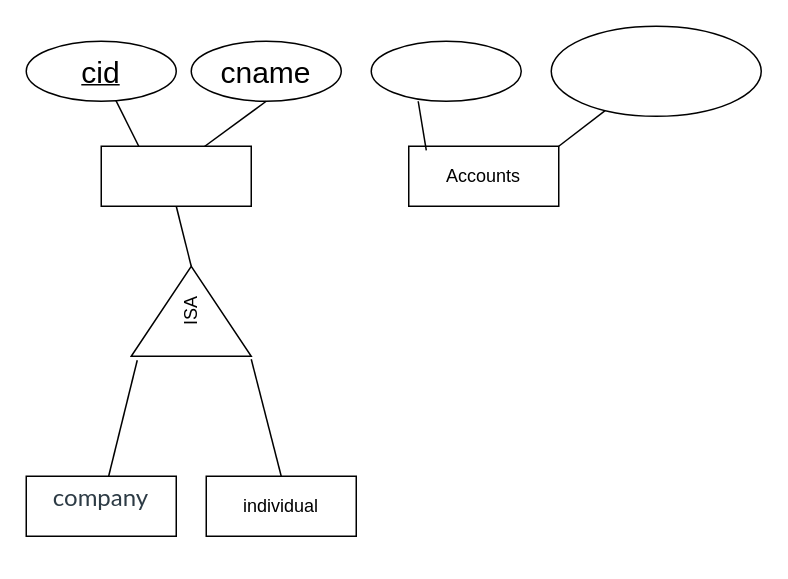
The diagram is 788 pixels wide and 579 high, and some of its shapes have lost their labels. The shapes that lost their labels are listed below. From the top down, each one's centre as x and y in pixels, then its label:
(x=445, y=70): aid
(x=655, y=70): overdraft_limit_amount
(x=175, y=175): Customers
